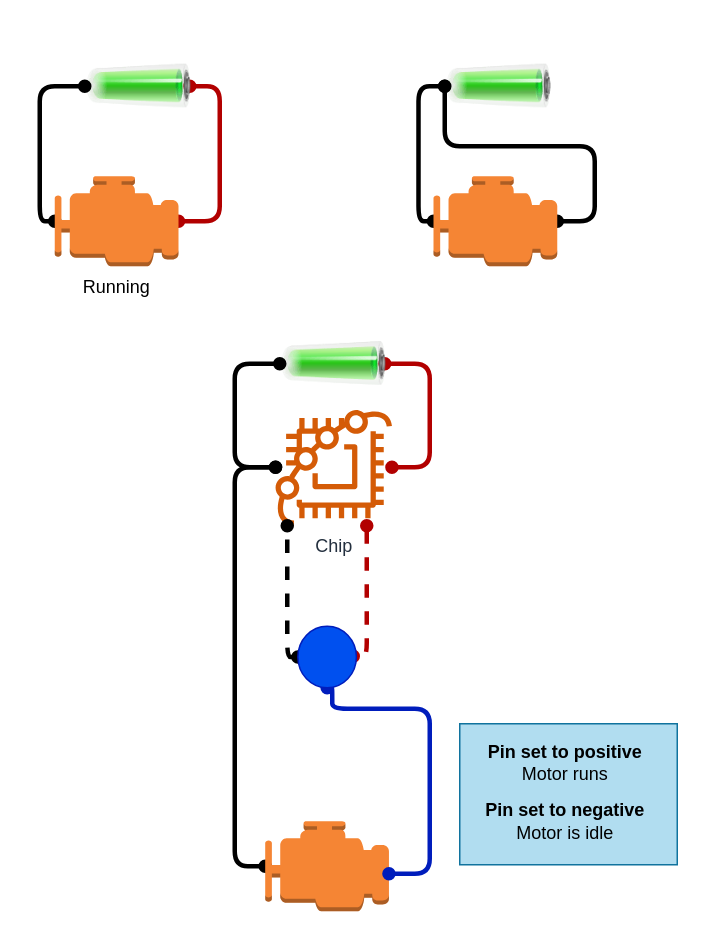
Some shapes in this 704 by 938 pixel diagram are drawn without their labels. The box of each missing label's shape, as (x1, y1, x2, y2) in pixels:
Not running: (432, 175, 557, 266)
Pin 1: (296, 625, 356, 688)
